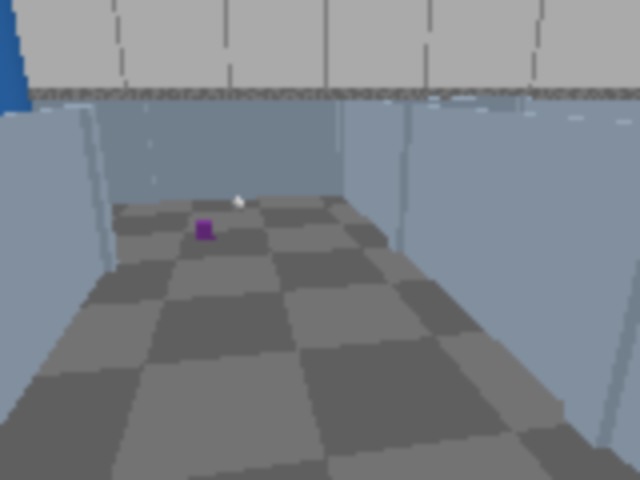person: (0, 0, 50, 255)
puck: (196, 220, 214, 241), (229, 196, 246, 213)
